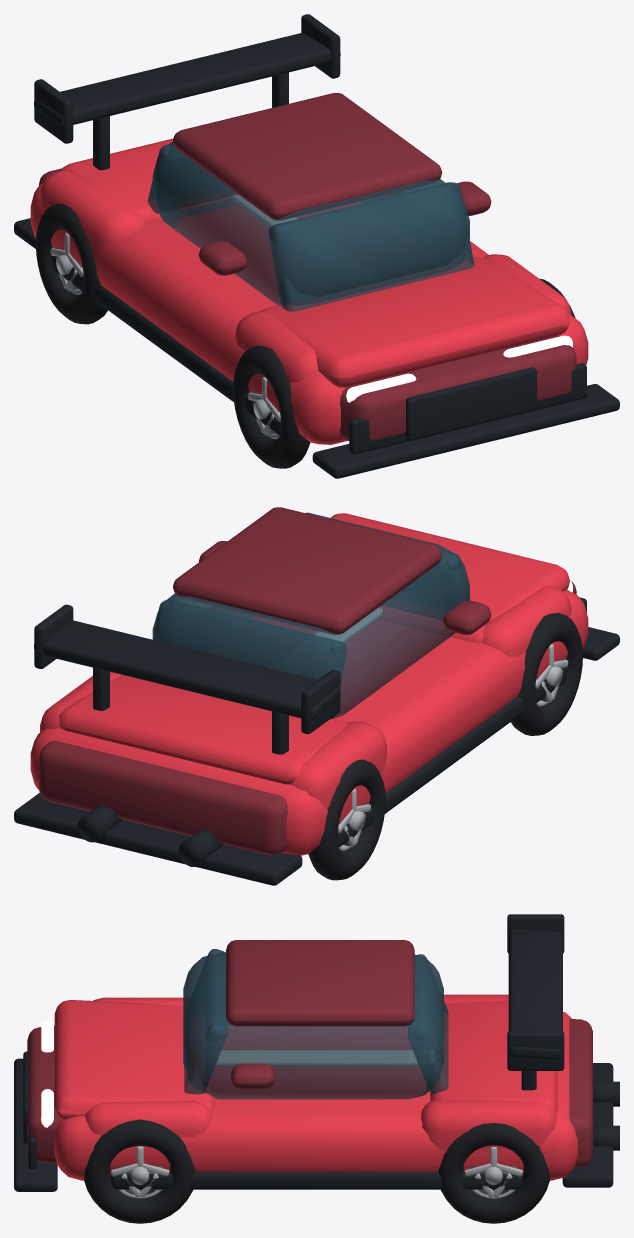
The model's file is gt_car_v2.glb.
3 renders of one model, top to bottom at view 1: azimuth 30°, elevation 25°; view 2: azimuth 150°, elevation 25°; view 3: azimuth 270°, elevation 25°, orthographic. The views are drawn at different scales.
Parts seen in each view (by area): view 1: Cabin, Body_Main, Hood, Roof, Windshield, Wing, Body_Nose, Splitter, FrontGrille, Wheel_FL_Tire, Fender_R_-1, Wheel_RL_Tire (+14 smaller); view 2: Body_Main, Roof, Cabin, RearDeck, Body_Rear, Wing, RearGlass, Hood, Diffuser, Wheel_FL_Tire, Wheel_RL_Tire, Fender_R_-1 (+14 smaller); view 3: Body_Main, Cabin, Roof, Hood, RearDeck, Wheel_FR_Tire, Wing, Wheel_RR_Tire, Skirt_R, Fender_R_1, Windshield, RearGlass (+17 smaller).
Boxes of the visible parts, bbox=[...] form: Cabin: bbox=[152, 142, 469, 305]; Body_Main: bbox=[30, 183, 588, 444]; Hood: bbox=[260, 257, 569, 387]; Roof: bbox=[173, 93, 442, 220]; Windshield: bbox=[268, 182, 474, 311]; Wing: bbox=[34, 33, 340, 126]; Body_Nose: bbox=[340, 336, 576, 440]; Splitter: bbox=[312, 384, 619, 478]; FrontGrille: bbox=[405, 367, 536, 440]; Wheel_FL_Tire: bbox=[233, 345, 310, 468]; Fender_R_-1: bbox=[40, 170, 147, 271]; Wheel_RL_Tire: bbox=[35, 203, 107, 324]; Body_Main: bbox=[30, 590, 588, 855]; Roof: bbox=[173, 507, 442, 634]; Cabin: bbox=[152, 512, 469, 717]; RearDeck: bbox=[59, 675, 348, 784]; Body_Rear: bbox=[39, 741, 287, 855]; Wing: bbox=[34, 620, 340, 719]; RearGlass: bbox=[153, 600, 346, 719]; Hood: bbox=[330, 513, 569, 643]; Diffuser: bbox=[14, 793, 302, 885]; Wheel_FL_Tire: bbox=[511, 613, 582, 735]; Wheel_RL_Tire: bbox=[308, 759, 385, 880]; Fender_R_-1: bbox=[289, 721, 386, 815]; Body_Main: bbox=[54, 1012, 577, 1180]; Cabin: bbox=[183, 952, 443, 1099]; Roof: bbox=[226, 940, 414, 1026]; Hood: bbox=[54, 1000, 214, 1120]; RearDeck: bbox=[430, 1000, 557, 1112]; Wheel_FR_Tire: bbox=[84, 1119, 195, 1223]; Wing: bbox=[508, 929, 562, 1059]; Wheel_RR_Tire: bbox=[438, 1123, 549, 1223]; Skirt_R: bbox=[111, 1172, 522, 1189]; Fender_R_1: bbox=[421, 1099, 556, 1161]; Windshield: bbox=[184, 949, 227, 1094]; RearGlass: bbox=[408, 954, 448, 1094].
Bounding box in the file's own units: 1.84 × 1.25 × 3.6.
